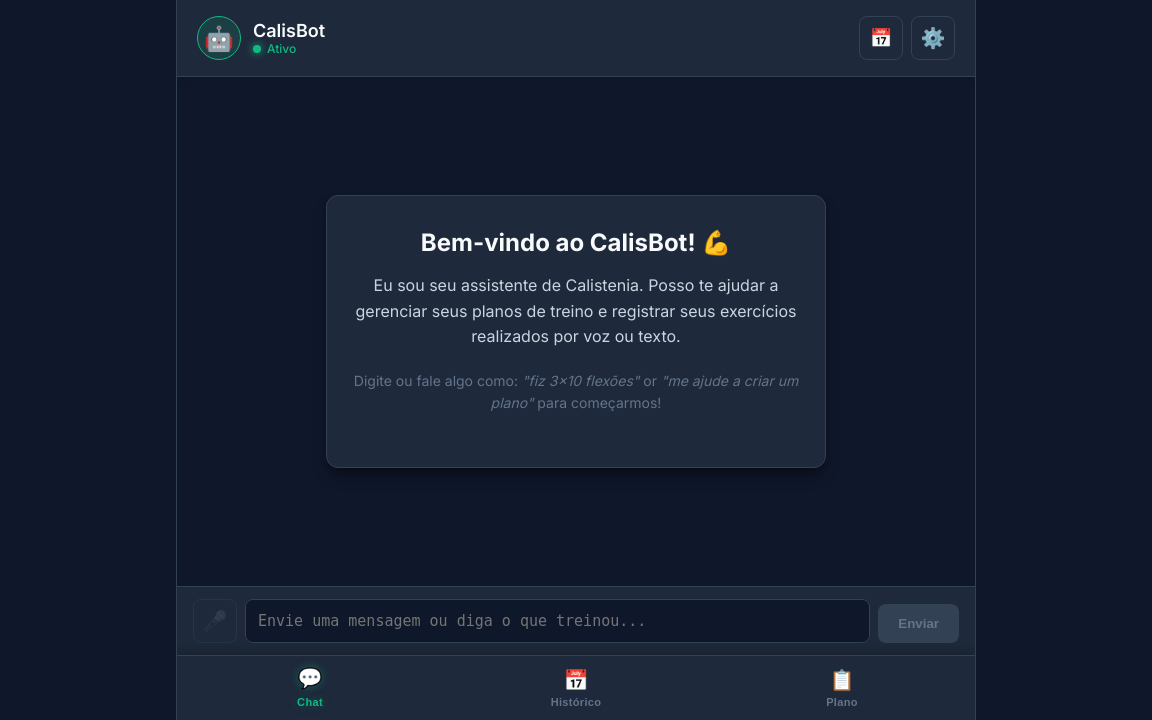
Test case: CalisBot App & Components › declines confirmation and cancels the workout logging
The width and height of the screenshot is (1152, 720).
Type "fiz 15 barras" into the text box with placeholder "Envie uma mensagem ou diga o que treinou..." at (558, 621), box [245,599,870,643]
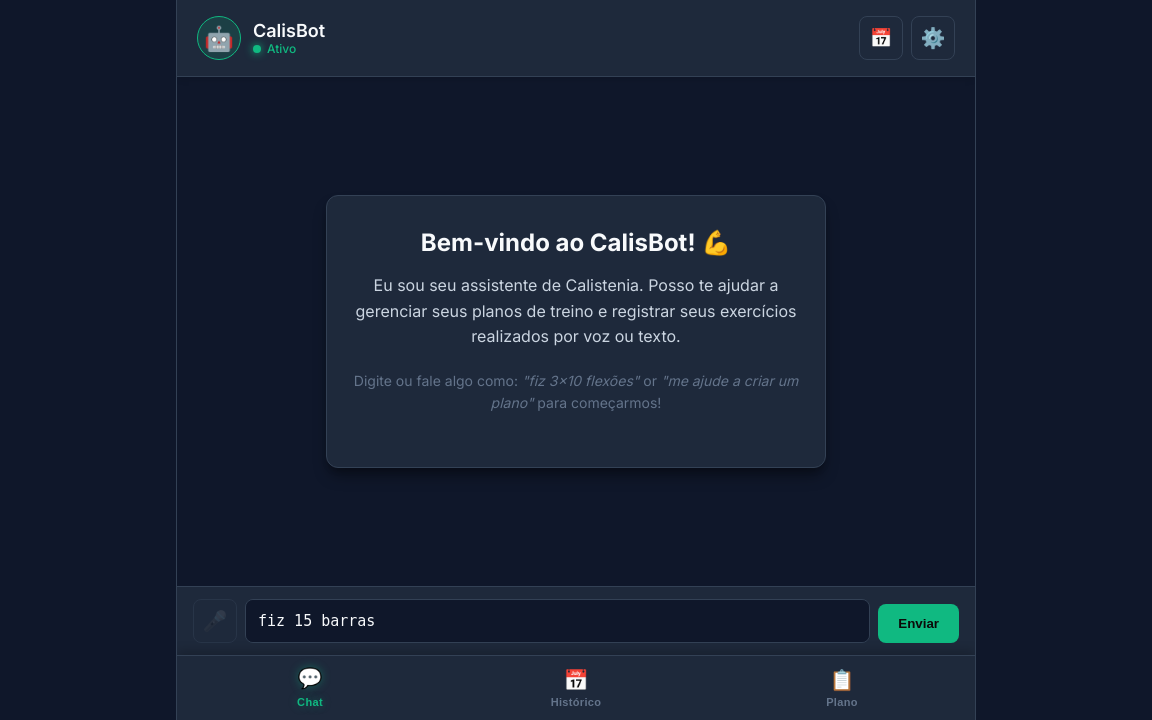
Click the button with aria-label "Enviar mensagem" at (919, 624), box [878,604,959,643]
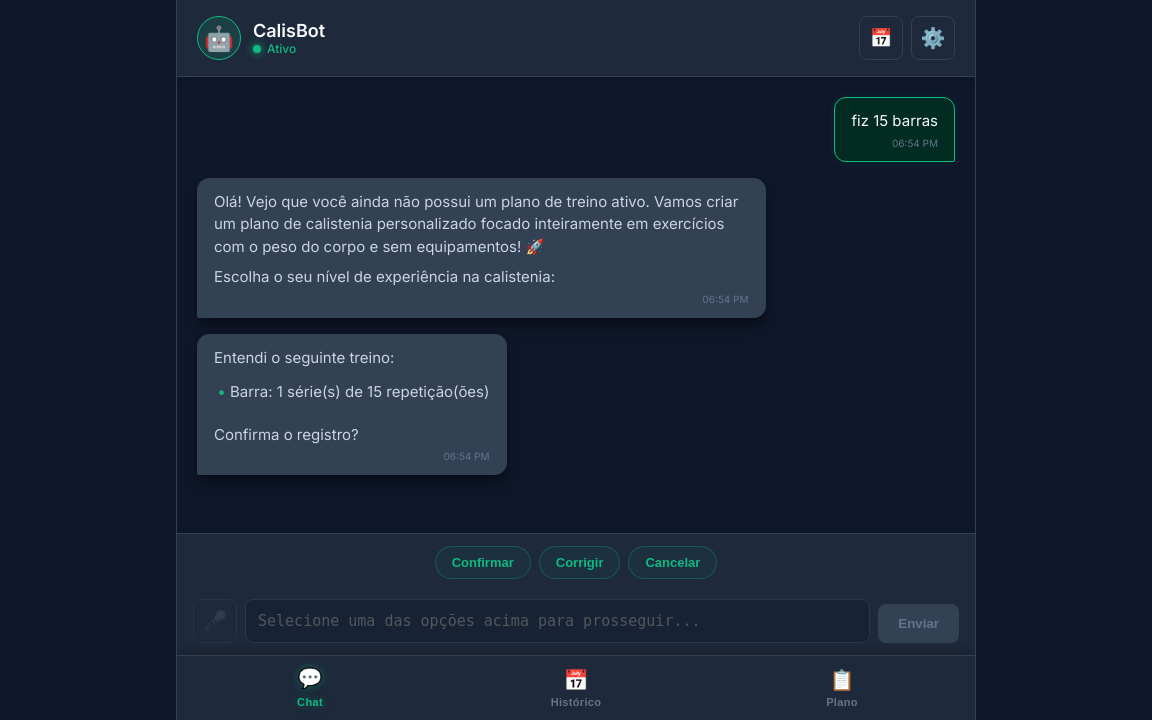
Check: the text "Entendi o seguinte treino:" is shown, box [214,348,394,366]
Note: Click Cancel quick action button
Click the button "Cancelar" at (673, 562), box [628,546,717,579]
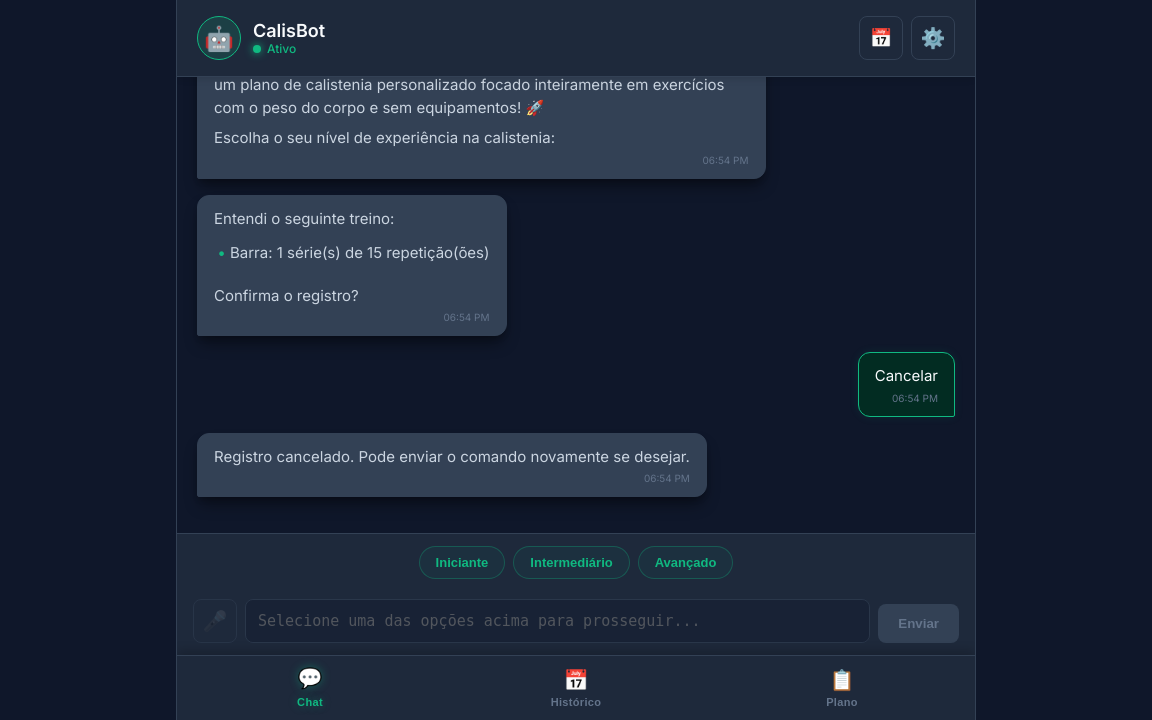
Check: the text "Registro cancelado. Pode enviar o comando novamente se desejar." is shown, box [214,446,690,468]
